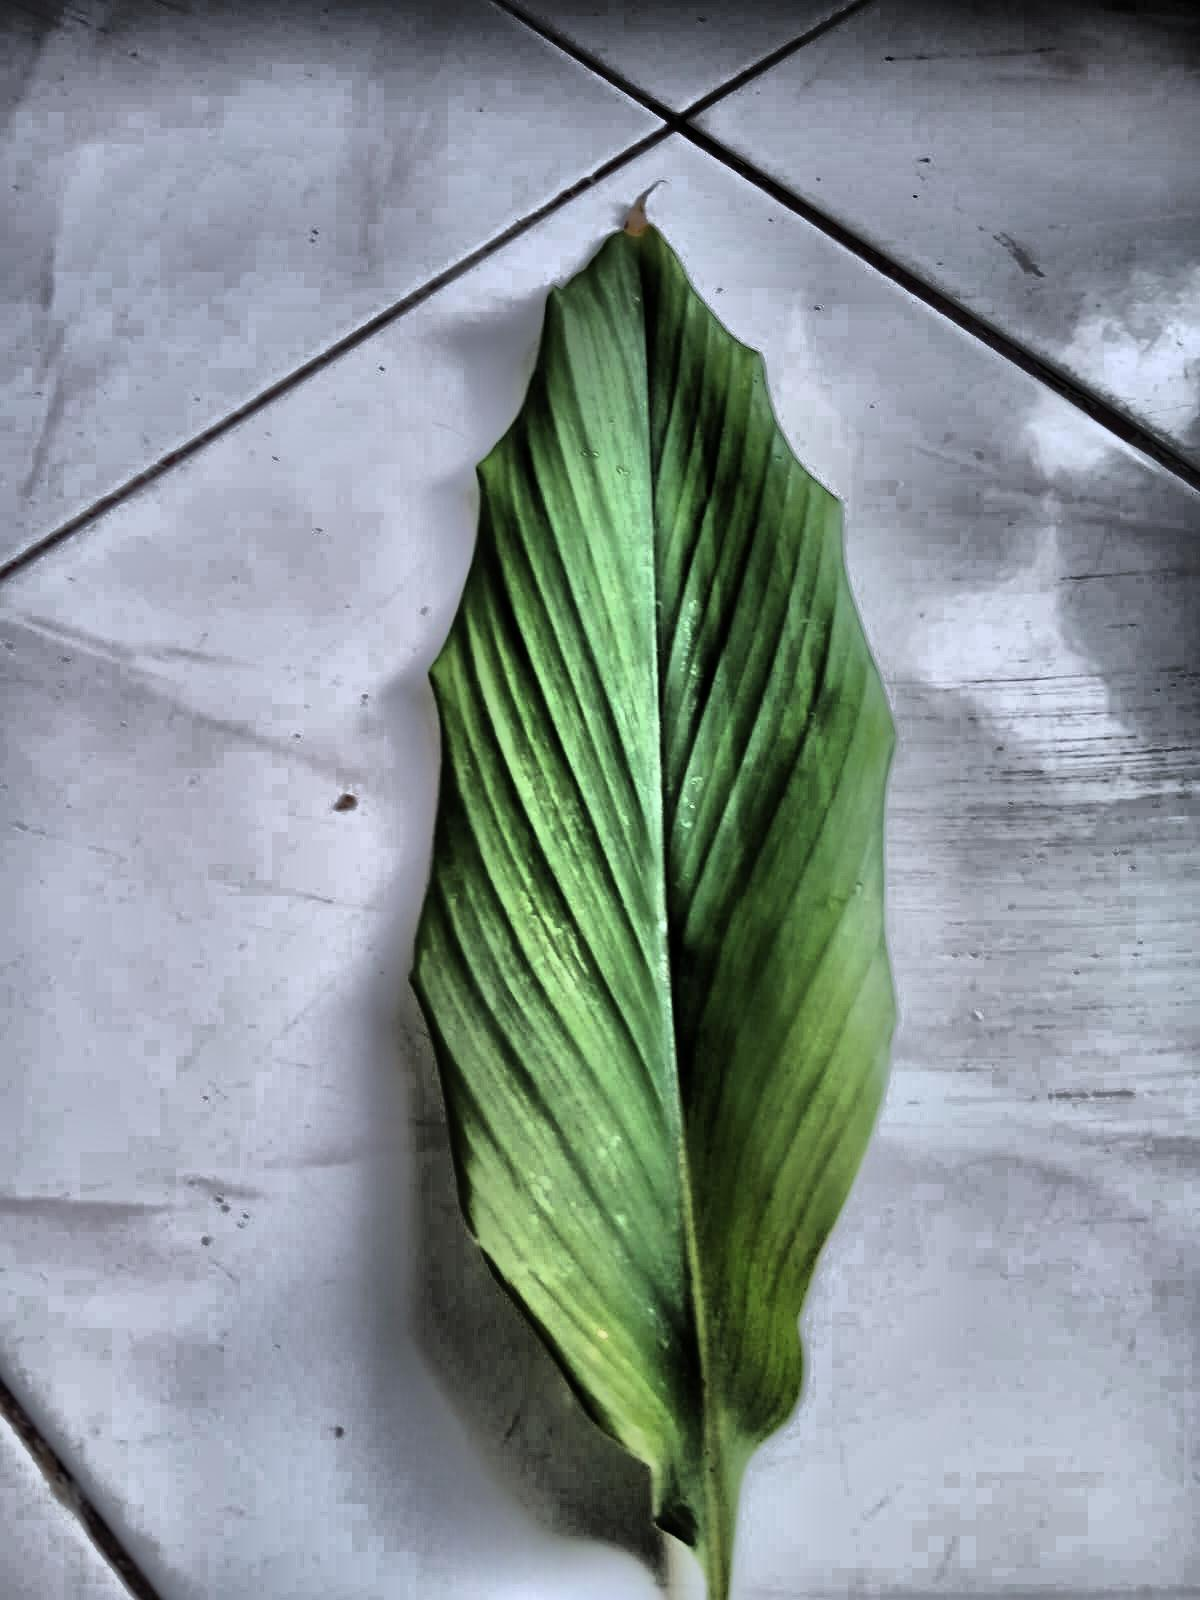daun kunyit: (412, 210, 895, 1599)
